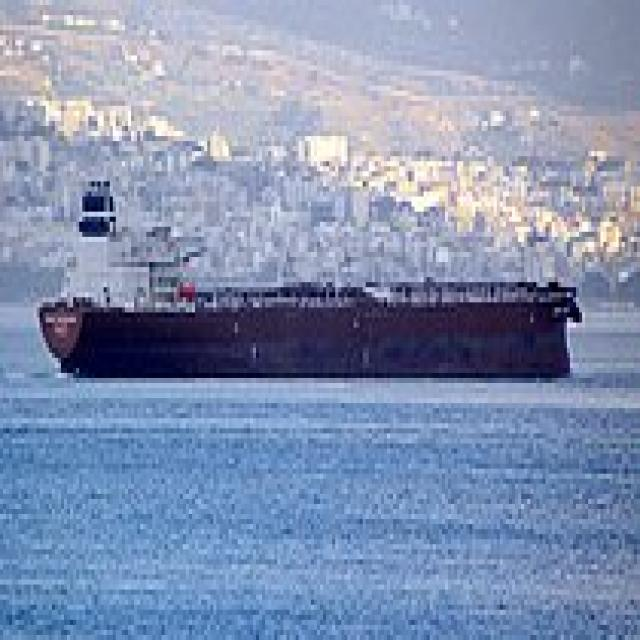Tanker: (34, 171, 582, 378)
